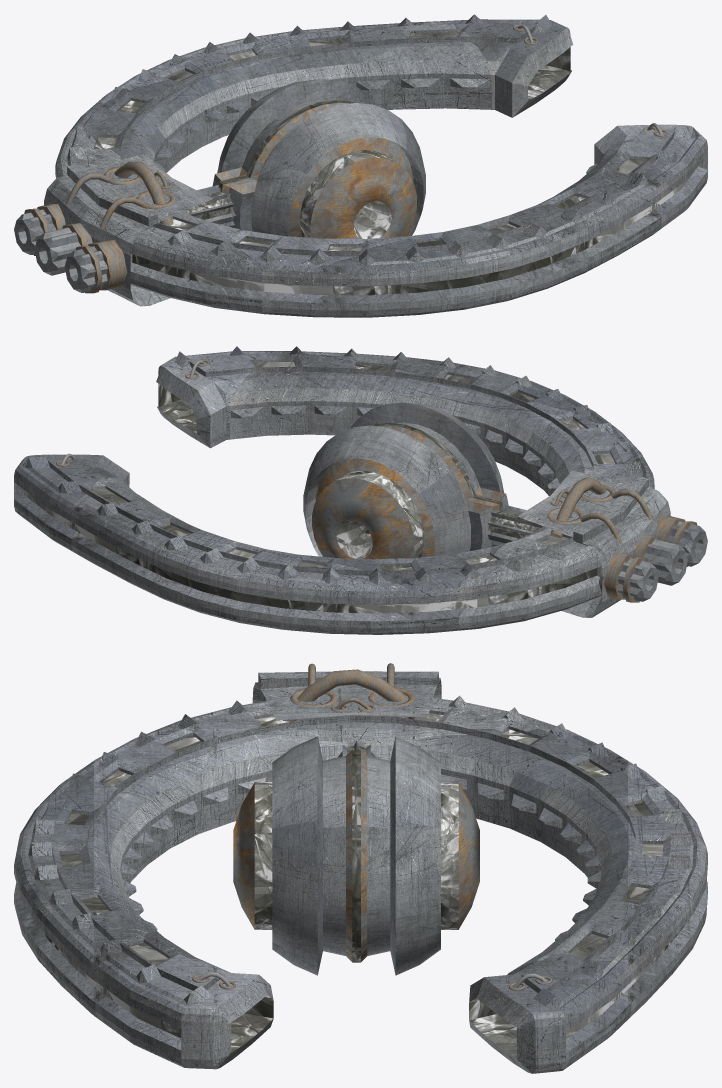
The model's file is Boss.FBX.
3 renders of one model, top to bottom at view 1: azimuth 30°, elevation 25°; view 2: azimuth 150°, elevation 25°; view 3: azimuth 270°, elevation 25°, orthographic. The views are drawn at different scales.
Visible parts, largest first — view 1: Tube001, Sphere001, Cylinder005, Cylinder002, Cylinder001, Cylinder003, Cylinder007, Loft001; view 2: Tube001, Sphere001, Cylinder005, Cylinder001, Cylinder007, Cylinder002, Loft001, Cylinder006; view 3: Tube001, Sphere001, Loft001.
Boxes of the visible parts, <box> form: Tube001: <box>44,14,707,317</box>; Sphere001: <box>212,79,425,238</box>; Cylinder005: <box>34,227,80,275</box>; Cylinder002: <box>64,246,107,292</box>; Cylinder001: <box>184,185,236,226</box>; Cylinder003: <box>88,240,127,290</box>; Cylinder007: <box>14,209,56,254</box>; Loft001: <box>114,161,173,225</box>; Tube001: <box>14,346,670,634</box>; Sphere001: <box>303,402,508,559</box>; Cylinder005: <box>643,539,687,585</box>; Cylinder001: <box>486,504,543,546</box>; Cylinder007: <box>618,558,658,601</box>; Cylinder002: <box>666,521,707,566</box>; Loft001: <box>550,477,606,538</box>; Cylinder006: <box>599,552,636,599</box>; Tube001: <box>14,671,707,1073</box>; Sphere001: <box>233,736,479,975</box>; Loft001: <box>283,669,415,721</box>.
Size of the model in its own units: 85.83 by 24.52 by 71.03.
